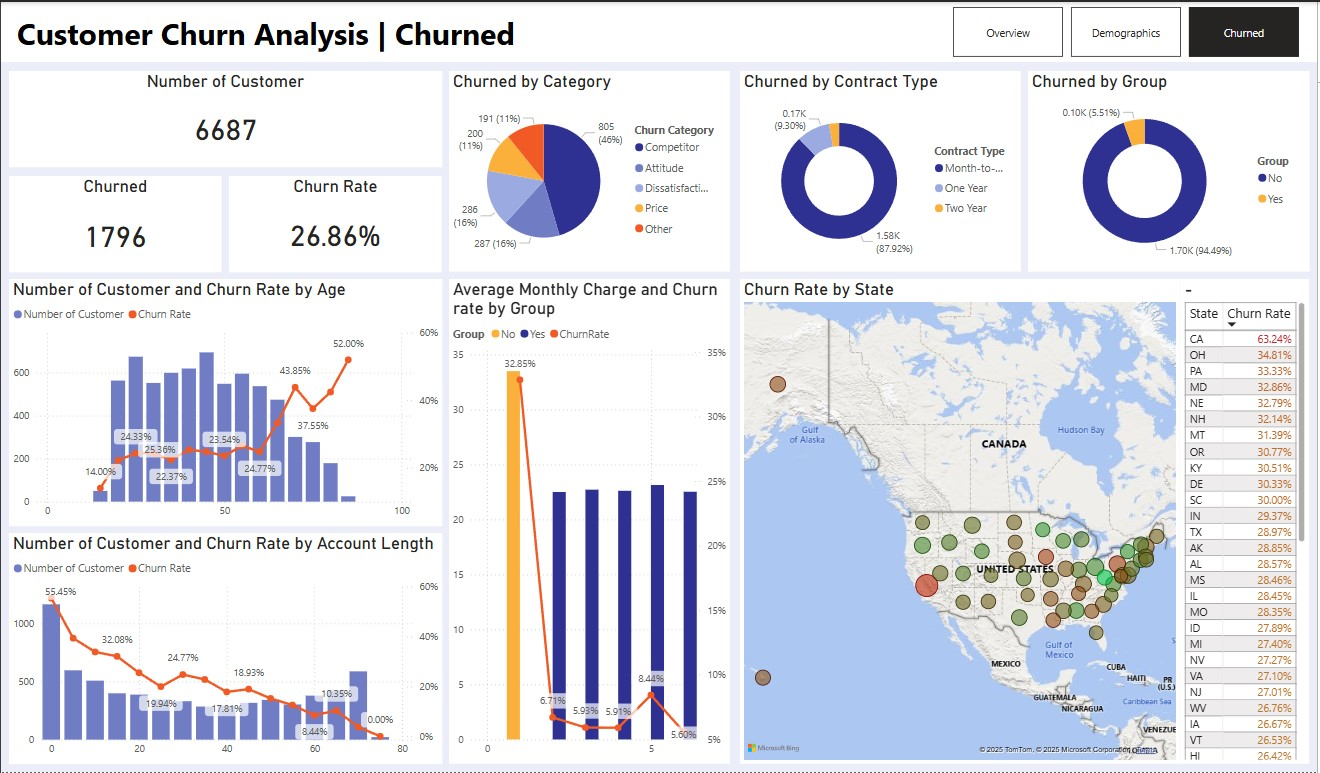

Layout of this report page (visuals, bound fields, positions):
{"tool":"powerbi","page":{"name":"Churned","canvas":[1640,960],"ordinal":2},"visuals":[{"type":"shape","box":[0,0,1640,74.8],"z":0},{"type":"pageNavigator","box":[1186.4,6.2,432.4,62.3],"z":1000},{"type":"card","title":"Churned","fields":{"Values":["Sum(_Measure.NumberofChurned)"]},"box":[10,216.8,265,120],"z":2000},{"type":"card","title":"Churn Rate","fields":{"Values":["_Measure.ChurnRate"]},"box":[284.1,216.8,265.4,119.6],"z":3000},{"type":"pieChart","title":"Churned by Category","fields":{"Category":["Databel - Data.Churn Category"],"Y":["_Measure.NumberofCustomer"]},"box":[558.3,86,350.2,250],"z":4000},{"type":"donutChart","title":"Churned by Contract Type","fields":{"Y":["_Measure.NumberofCustomer"],"Category":["Databel - Data.Contract Type"]},"box":[920.9,86,350.2,250],"z":5000},{"type":"lineClusteredColumnComboChart","title":"Number of Customer and Churn Rate by Age","fields":{"Category":["Databel.Age (bins)"],"Y":["_Measure.NumberofCustomer"],"Y2":["_Measure.ChurnRate"]},"box":[10,345.2,539.6,307.8],"z":6000},{"type":"lineClusteredColumnComboChart","title":"Number of Customer and Churn Rate by Account Length","fields":{"Category":["Databel.Account Length (in months) (bins)"],"Y":["_Measure.NumberofCustomer"],"Y2":["_Measure.ChurnRate"]},"box":[10,661.7,539.6,287.9],"z":7000},{"type":"donutChart","title":"Churned by Group","fields":{"Y":["_Measure.NumberofCustomer"],"Category":["Databel.Group"]},"box":[1279.6,86.2,350.7,250],"z":8000},{"type":"card","title":"Number of Customer","fields":{"Values":["_Measure.NumberofCustomer"]},"box":[10,86,539.6,120],"z":9000},{"type":"map","title":"Churn Rate by State","fields":{"Category":["Databel - Data.State"],"Size":["_Measure.ChurnRate"]},"box":[920.9,345.2,548.3,604.4],"z":10000},{"type":"tableEx","title":"-","fields":{"Values":["Databel.State","_Measure.ChurnRate"]},"box":[1469.3,345.2,160.8,604.4],"z":11000},{"type":"lineClusteredColumnComboChart","title":"Average Monthly Charge and Churn rate by Group","fields":{"Category":["Databel.Number of Customers in Group"],"Series":["databel.Group"],"Y":["Avg(databel.Monthly Charge)"],"Y2":["_Measure.ChurnRate"]},"box":[558.3,345.2,350.2,604.4],"z":11001}]}

Visuals, with their boxes in screenshot pixels (x1, y1, x2, y2), scaled from the page's 1640x960 canvas onto the 1320x773 screenshot:
shape: {"left": 0, "top": 0, "right": 1319, "bottom": 60}
pageNavigator: {"left": 955, "top": 5, "right": 1303, "bottom": 55}
"Churned" card: {"left": 8, "top": 175, "right": 221, "bottom": 271}
"Churn Rate" card: {"left": 229, "top": 175, "right": 442, "bottom": 271}
"Churned by Category" pieChart: {"left": 449, "top": 69, "right": 731, "bottom": 271}
"Churned by Contract Type" donutChart: {"left": 741, "top": 69, "right": 1023, "bottom": 271}
"Number of Customer and Churn Rate by Age" lineClusteredColumnComboChart: {"left": 8, "top": 278, "right": 442, "bottom": 526}
"Number of Customer and Churn Rate by Account Length" lineClusteredColumnComboChart: {"left": 8, "top": 533, "right": 442, "bottom": 765}
"Churned by Group" donutChart: {"left": 1030, "top": 69, "right": 1312, "bottom": 271}
"Number of Customer" card: {"left": 8, "top": 69, "right": 442, "bottom": 166}
"Churn Rate by State" map: {"left": 741, "top": 278, "right": 1183, "bottom": 765}
"-" tableEx: {"left": 1183, "top": 278, "right": 1312, "bottom": 765}
"Average Monthly Charge and Churn rate by Group" lineClusteredColumnComboChart: {"left": 449, "top": 278, "right": 731, "bottom": 765}
